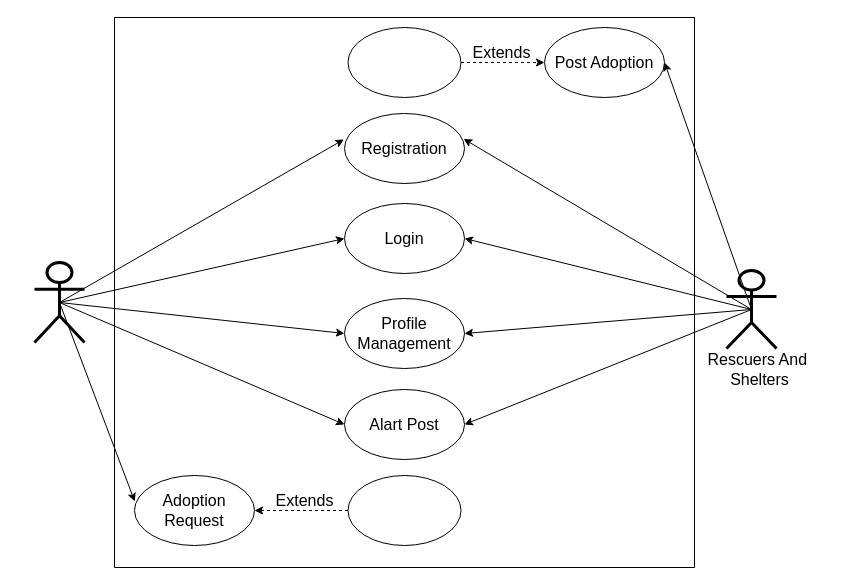
Some shapes in this 842 by 585 pixel diagram are drawn without their labels. The shapes that lost their labels are listed below. From the top down, each one's centre as x and y in pixels, then its label:
At point (404, 62): "Add Rate".
At point (59, 302): "Pet Adopter".
At point (404, 510): "Make Donation".
